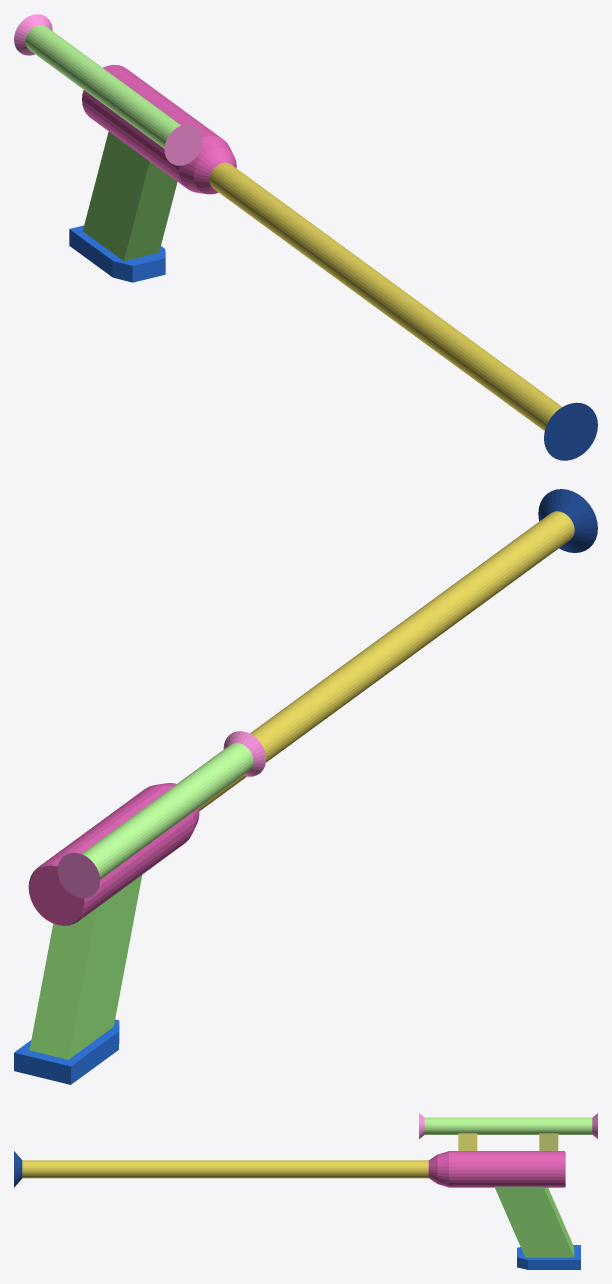
Rendered from target_pistol.glb.
The picture shows the model from 3 angles, top to bottom: view 1: azimuth 30°, elevation 25°; view 2: azimuth 150°, elevation 25°; view 3: azimuth 270°, elevation 25°; orthographic projection. The views are drawn at different scales.
Parts seen in each view (by area): view 1: Cylinder, Cube, Cylinder.001, Cylinder.002, Cone, Cube.003, Cone.003, Cone.002; view 2: Cylinder, Cube, Cylinder.001, Cylinder.002, Cube.003, Cone, Cone.002, Cone.003; view 3: Cylinder, Cylinder.001, Cube, Cylinder.002, Cube.003, Cube.002, Cube.004, Cone.
Boxes of the visible parts, <box> form: Cylinder: <box>209,162,561,430</box>; Cube: <box>83,131,177,260</box>; Cylinder.001: <box>82,64,236,194</box>; Cylinder.002: <box>25,25,181,148</box>; Cone: <box>544,402,597,460</box>; Cube.003: <box>69,225,165,282</box>; Cone.003: <box>164,124,202,165</box>; Cone.002: <box>14,14,52,55</box>; Cylinder: <box>198,511,574,811</box>; Cube: <box>29,875,142,1059</box>; Cylinder.001: <box>28,783,199,925</box>; Cylinder.002: <box>81,743,253,879</box>; Cube.003: <box>14,1019,119,1084</box>; Cone: <box>538,489,597,552</box>; Cone.002: <box>57,852,99,898</box>; Cone.003: <box>223,731,266,776</box>; Cylinder: <box>22,1160,428,1178</box>; Cylinder.001: <box>428,1151,565,1187</box>; Cube: <box>494,1186,574,1257</box>; Cylinder.002: <box>424,1117,592,1134</box>; Cube.003: <box>517,1245,580,1269</box>; Cube.002: <box>458,1133,477,1150</box>; Cube.004: <box>539,1133,558,1150</box>; Cone: <box>14,1151,22,1187</box>.
Bounding box in the file's own units: 0.0352 × 0.0813 × 0.32.
